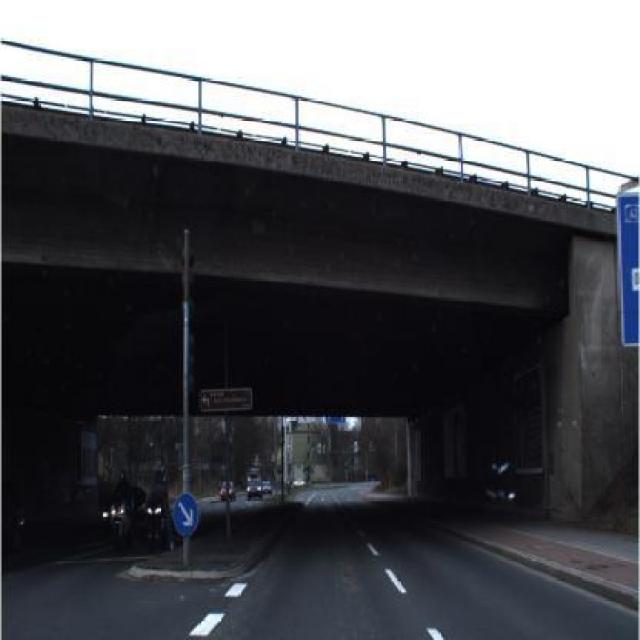traffic_sign: (172, 492, 202, 539)
